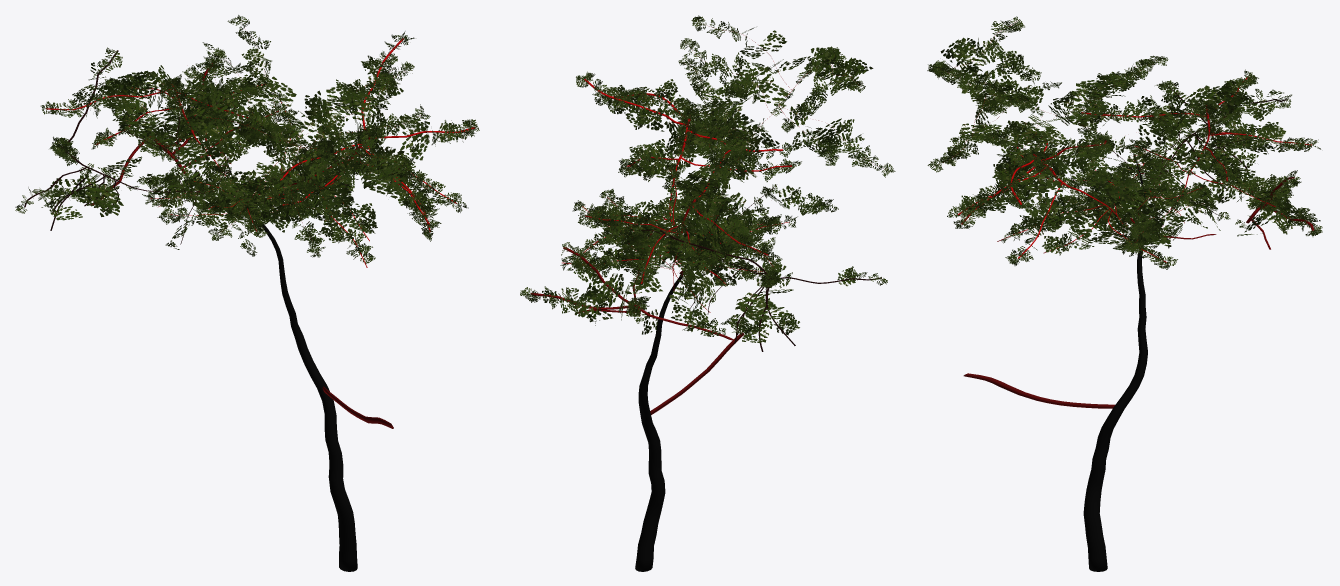
3 views of the same model, side by side, from view 1: azimuth 30°, elevation 25°; view 2: azimuth 150°, elevation 25°; view 3: azimuth 270°, elevation 25° (orthographic). The views are drawn at different scales.
Parts seen in each view (by area): view 1: Tree21; view 2: Tree21; view 3: Tree21.
Part boxes in pixels (<box>): Tree21: <box>15,15,479,571</box>; Tree21: <box>520,15,895,571</box>; Tree21: <box>927,16,1322,571</box>.
Bounding box in the file's own units: 5 × 6.7 × 5.
